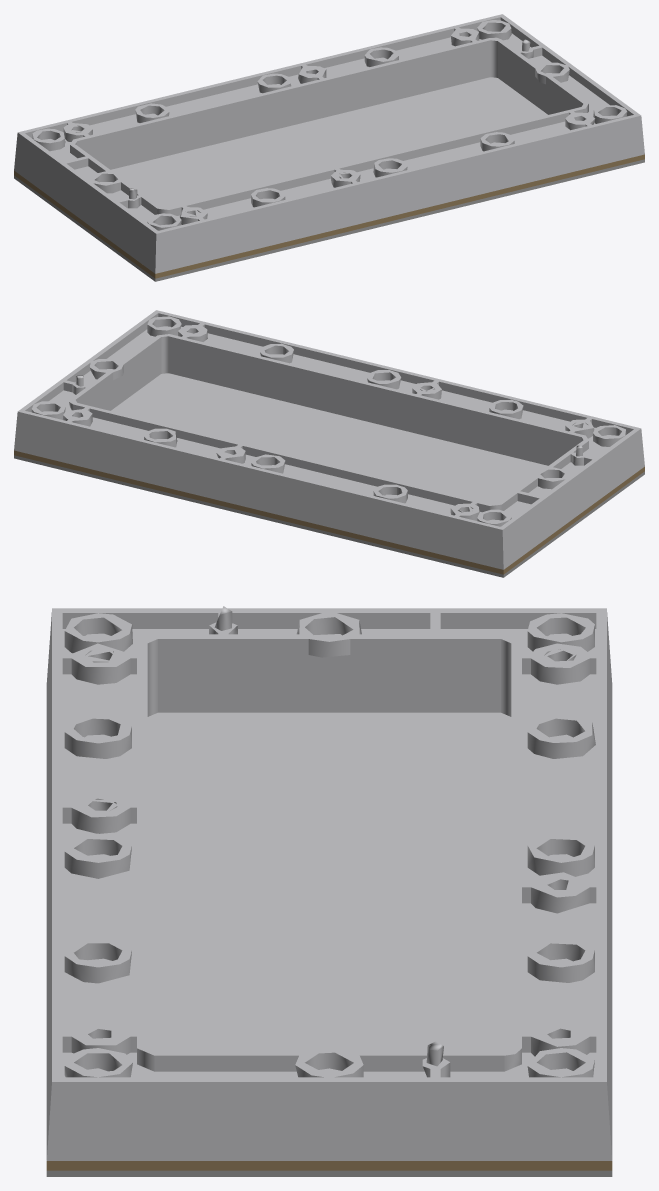
The model's file is ada-5036.glb.
3 renders of one model, top to bottom at view 1: azimuth 30°, elevation 25°; view 2: azimuth 150°, elevation 25°; view 3: azimuth 270°, elevation 25°, orthographic. The views are drawn at different scales.
Visible parts, largest first — view 1: 0.5833333333333334_0.5833333333333334_0.5833333333333334_0.8, 0.3333333333333333_0.25_0.08333333333333333_0, 0.3333333333333333_0.3333333333333333_0.3333333333333333_0; view 2: 0.5833333333333334_0.5833333333333334_0.5833333333333334_0.8, 0.3333333333333333_0.25_0.08333333333333333_0, 0.3333333333333333_0.3333333333333333_0.3333333333333333_0; view 3: 0.5833333333333334_0.5833333333333334_0.5833333333333334_0.8, 0.3333333333333333_0.25_0.08333333333333333_0, 0.3333333333333333_0.3333333333333333_0.3333333333333333_0.
Part boxes in pixels (<box>): 0.5833333333333334_0.5833333333333334_0.5833333333333334_0.8: <box>14,14,644,273</box>; 0.3333333333333333_0.25_0.08333333333333333_0: <box>14,154,644,278</box>; 0.3333333333333333_0.3333333333333333_0.3333333333333333_0: <box>14,159,644,281</box>; 0.5833333333333334_0.5833333333333334_0.5833333333333334_0.8: <box>14,310,644,569</box>; 0.3333333333333333_0.25_0.08333333333333333_0: <box>14,450,644,574</box>; 0.3333333333333333_0.3333333333333333_0.3333333333333333_0: <box>14,455,644,577</box>; 0.5833333333333334_0.5833333333333334_0.5833333333333334_0.8: <box>46,606,612,1160</box>; 0.3333333333333333_0.25_0.08333333333333333_0: <box>46,1161,612,1170</box>; 0.3333333333333333_0.3333333333333333_0.3333333333333333_0: <box>46,1170,612,1176</box>.
Size of the model in its own units: 16 by 1.75 by 8.
